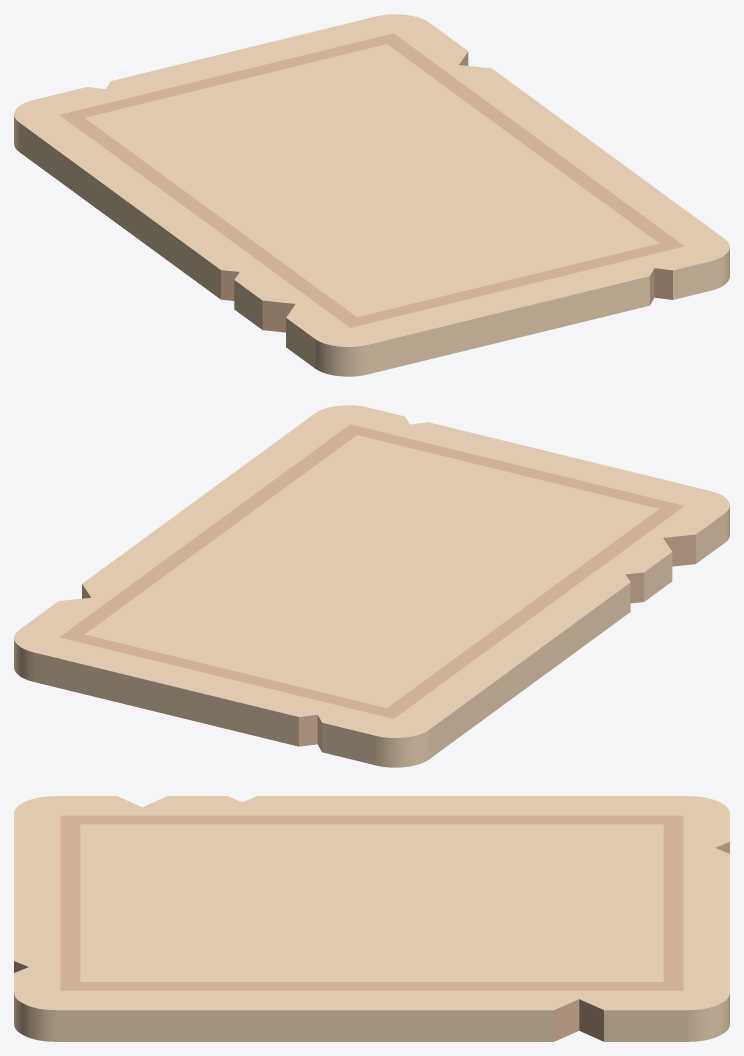
The model's file is cutting-board.glb.
The picture shows the model from 3 angles, top to bottom: view 1: azimuth 30°, elevation 25°; view 2: azimuth 150°, elevation 25°; view 3: azimuth 270°, elevation 25°; orthographic projection. The views are drawn at different scales.
Parts seen in each view (by area): view 1: cuttingBoard; view 2: cuttingBoard; view 3: cuttingBoard.
Boxes of the visible parts, x1,y1,x2,y2 form: cuttingBoard: [14, 14, 729, 376]; cuttingBoard: [14, 405, 729, 767]; cuttingBoard: [14, 796, 729, 1041].
Bounding box in the file's own units: 0.2829 × 0.0195 × 0.4.
